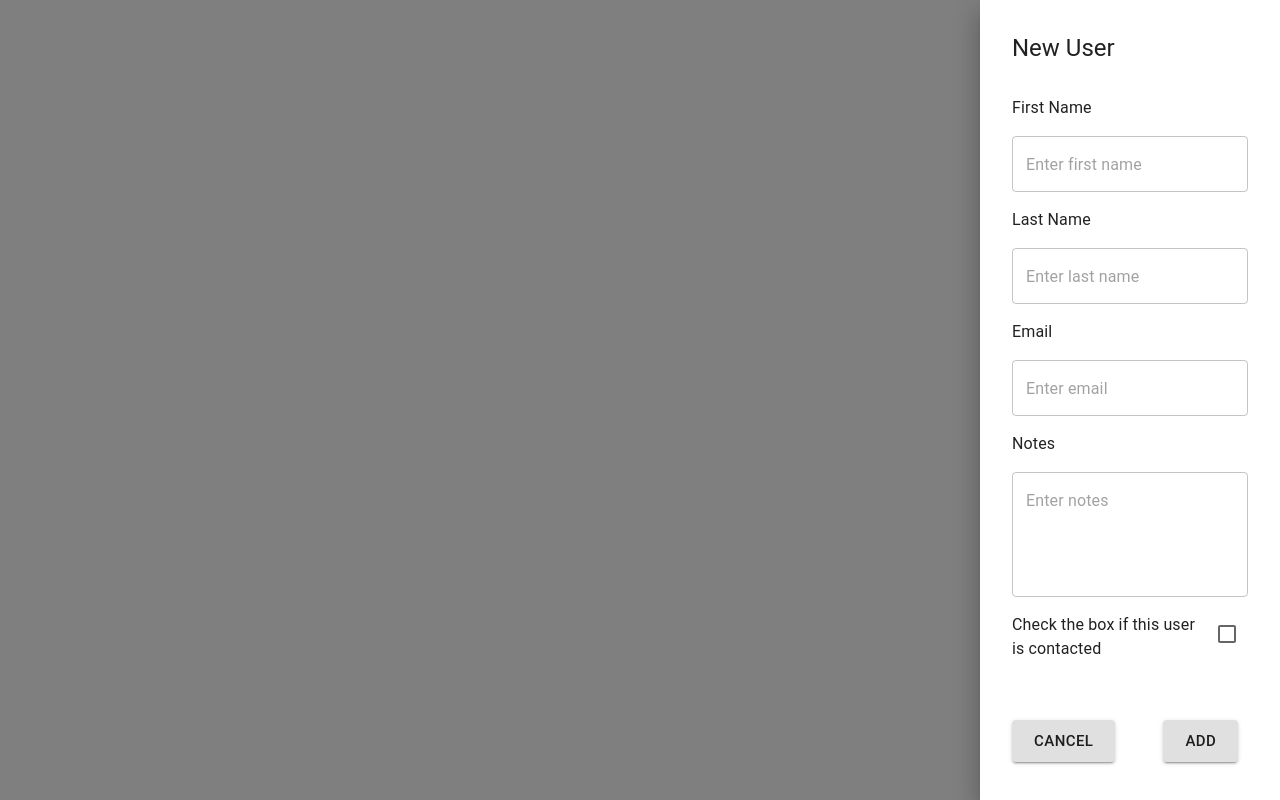
Test case: add new user drawer › 1 warning message should displayed when submitting form with first and last name
In the field with placeholder "Enter first name": (1130, 164) [1012, 136, 1248, 192], type "Harry"
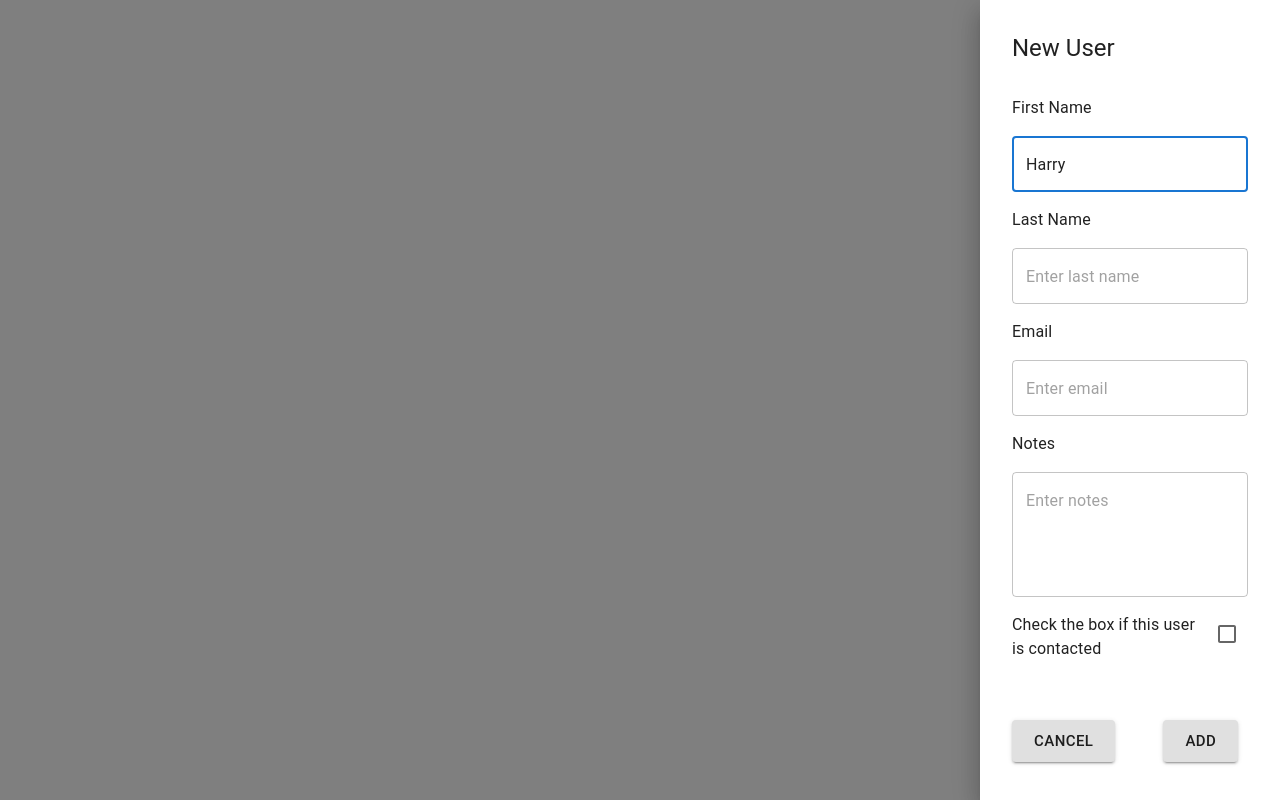
In the field with placeholder "Enter last name": (1130, 276) [1012, 248, 1248, 304], type "Chow"
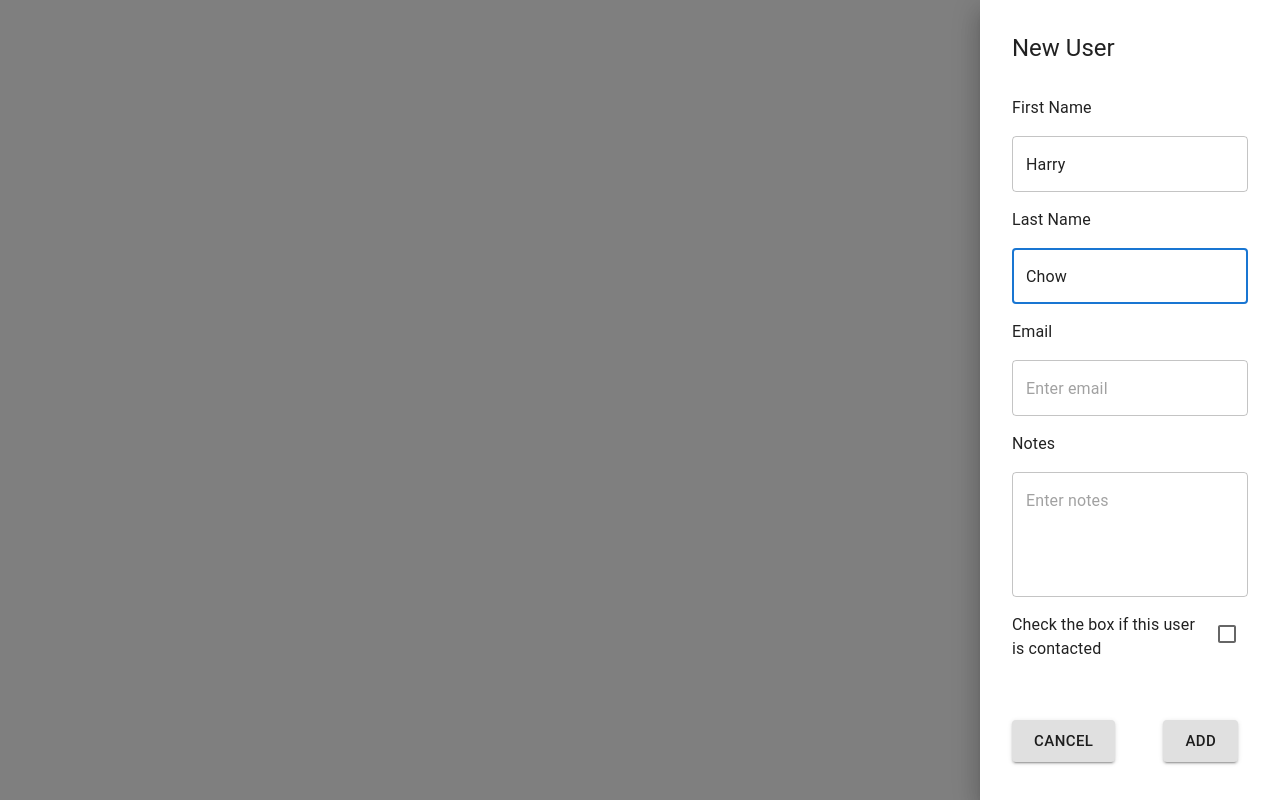
Click the button with test id "add-new-user-button": (1201, 741) [1163, 720, 1238, 762]
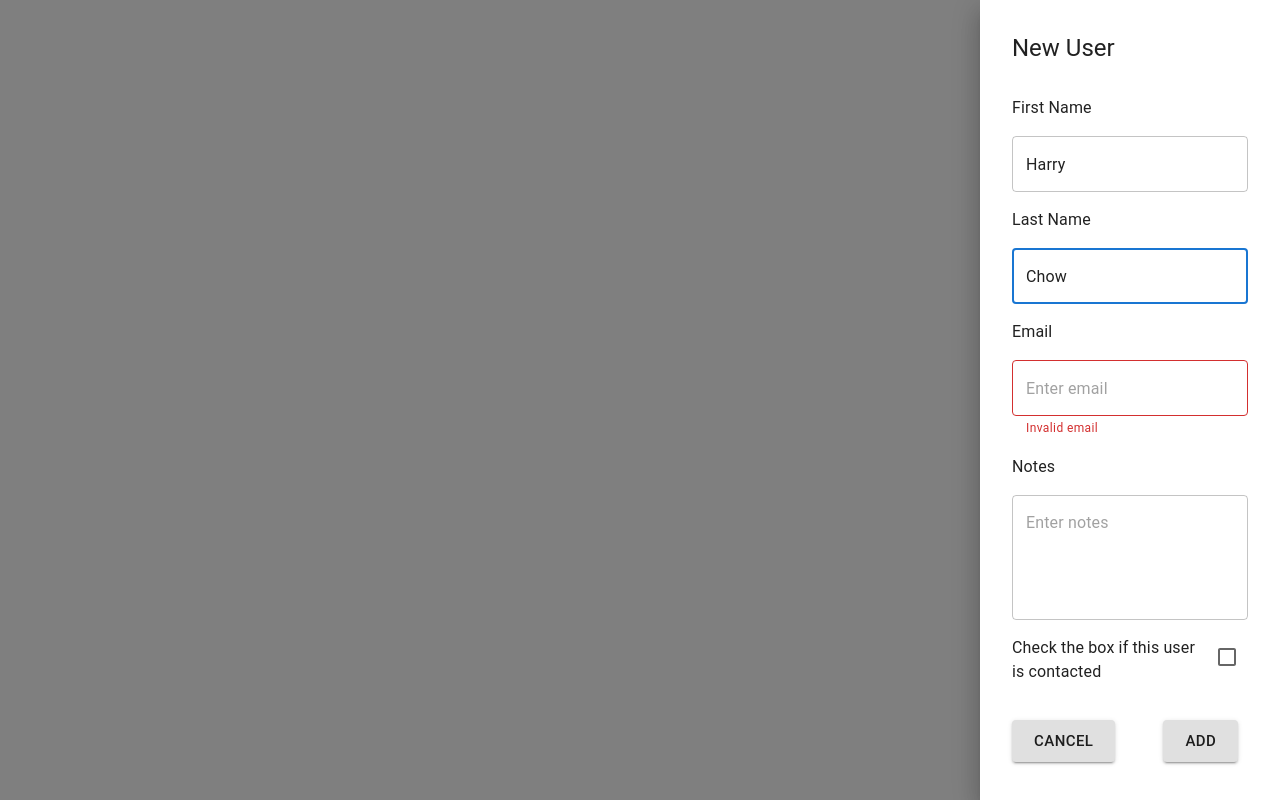
Now the text "Invalid email" is shown, box [1026, 421, 1098, 435]
